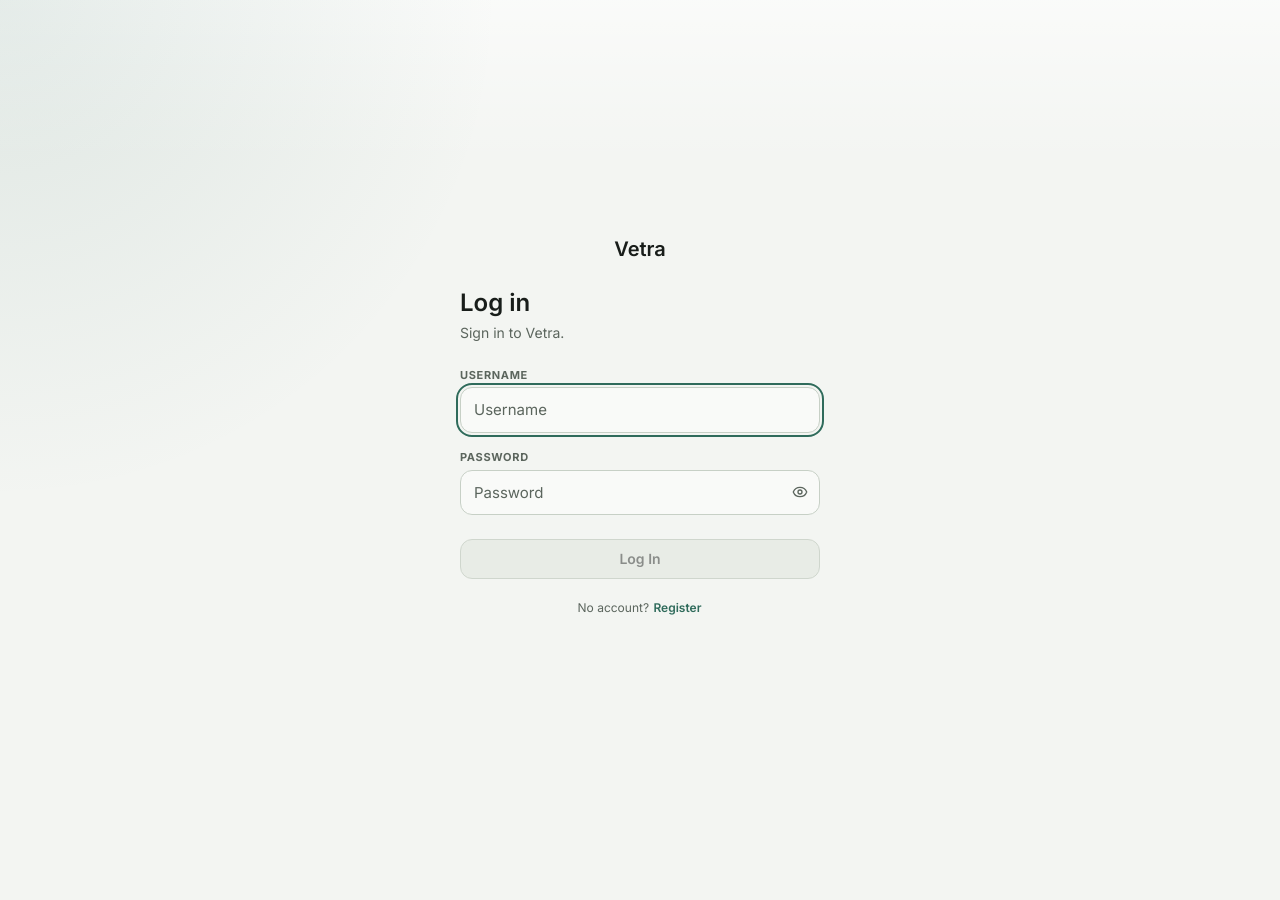
it: AuthPage › switches between login and registration
Click the button "Register": (677, 608) [652,599,702,617]
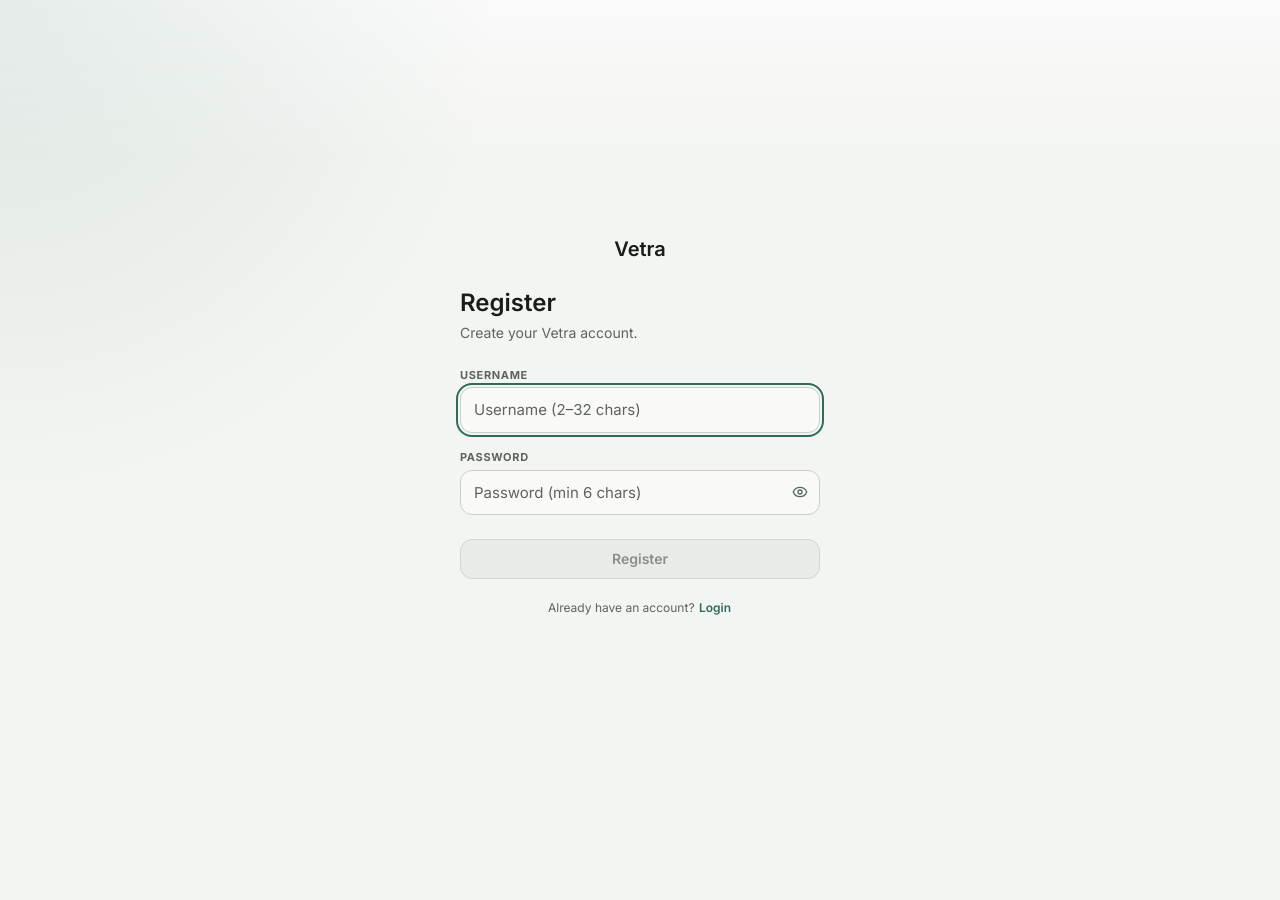
Check: the heading "Register" is shown, box [460,288,556,317]
Check: the button "Login" is shown
Click the button "Login": (715, 608) [698,599,732,617]
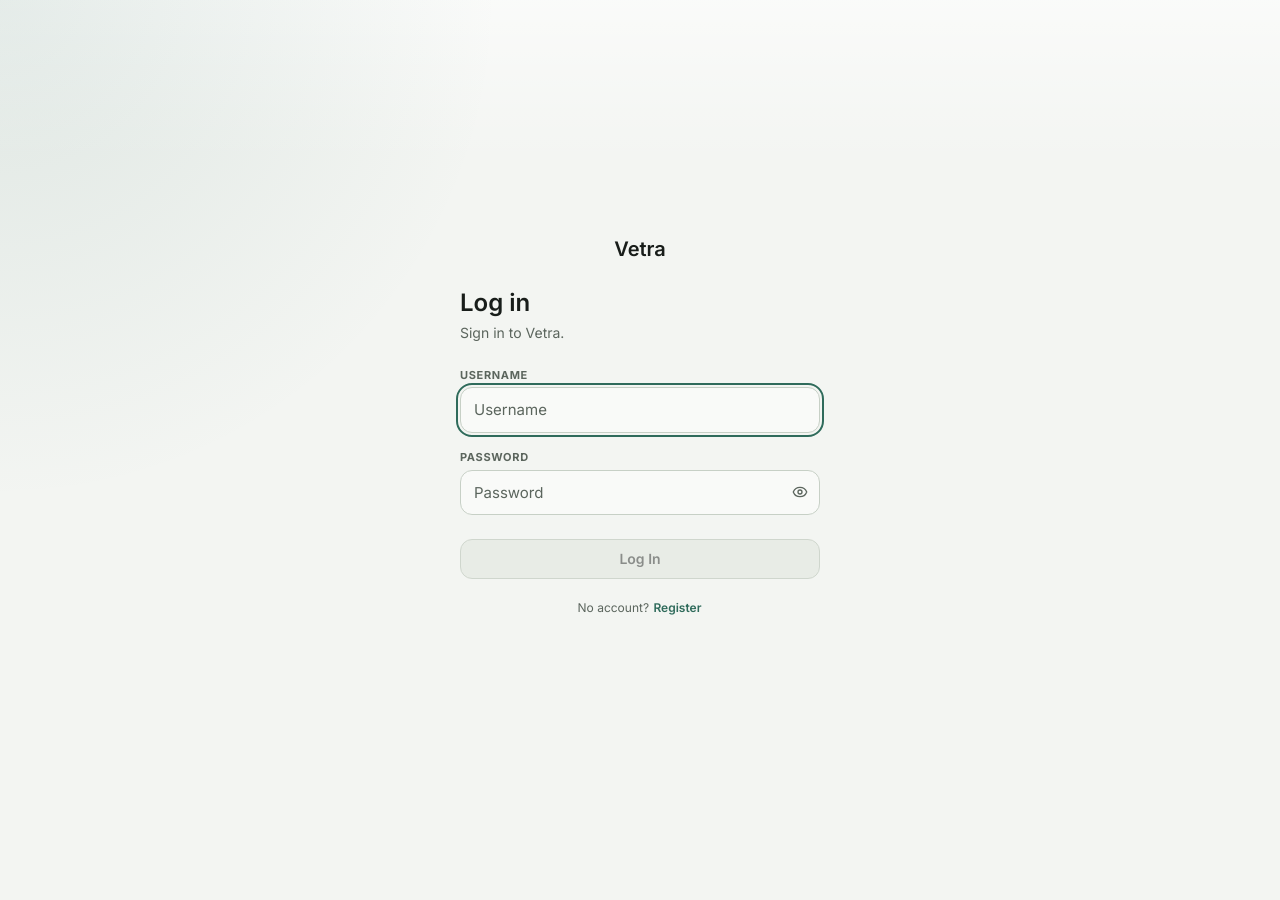
Check: the heading "Log in" is shown, box [460,288,530,317]
